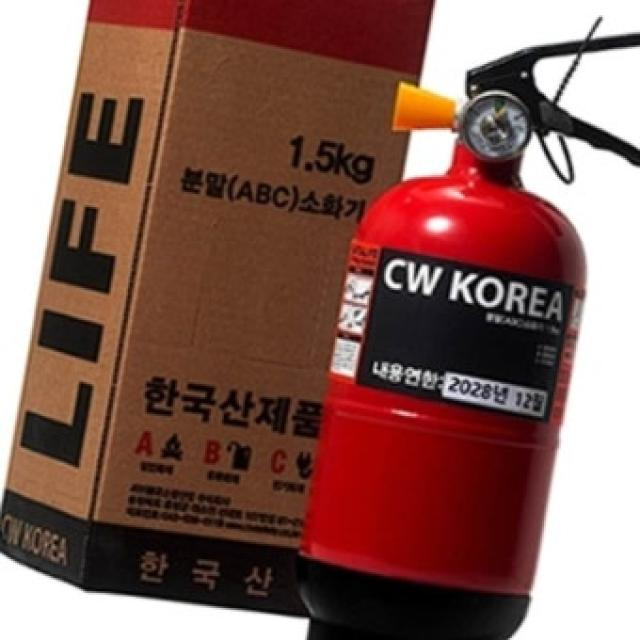pressure gauge: (460, 91, 532, 161)
